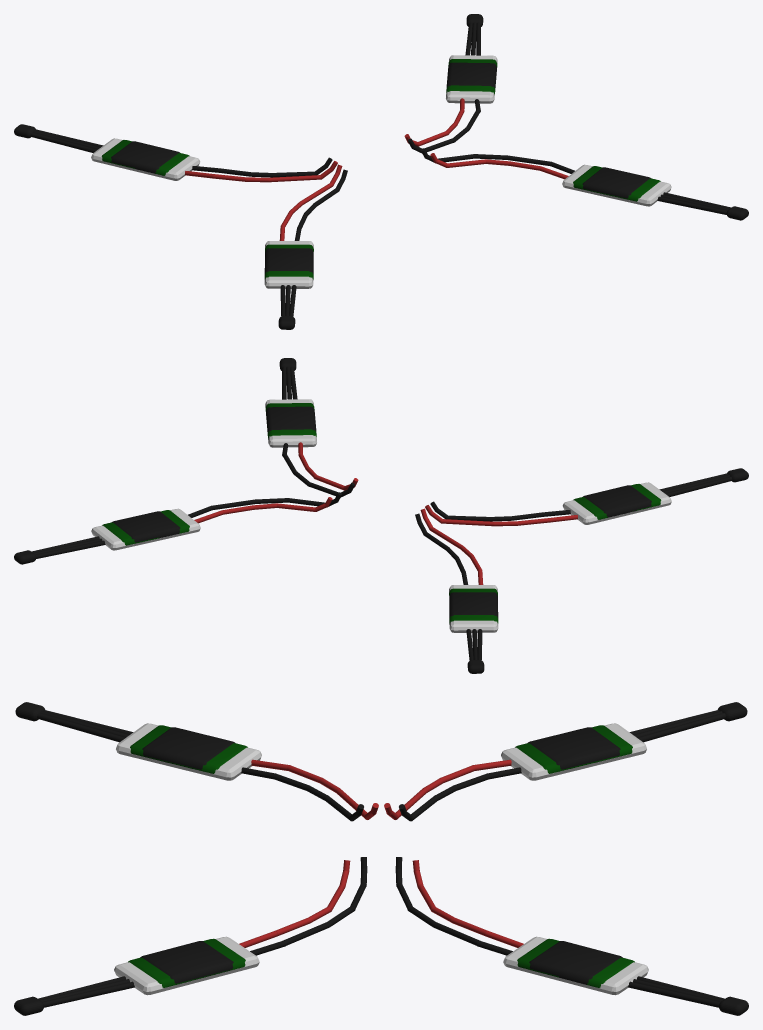
Rendered from controller2.dae.
3 views of the same model, one above another, from view 1: azimuth 30°, elevation 25°; view 2: azimuth 150°, elevation 25°; view 3: azimuth 270°, elevation 25° (orthographic). The views are drawn at different scales.
Visible parts, largest first — view 1: Würfel.2 (×2), Würfel (×2), Würfel.1 (×2), Kabel.1; view 2: Würfel.2 (×2), Würfel (×2), Würfel.1 (×2), Kabel.1; view 3: Würfel.2 (×2), Würfel (×2), Würfel.1 (×2), Kabel.2 (×2), Schrumpfschlauch_Motor (×2), Kabel (×2), Kabel.1 (×2), Kabel.8.
Part boxes in pixels (box(x1,y1,x2,y2)): Würfel.2 (×2): box(111, 62, 651, 273); Würfel (×2): box(91, 55, 671, 288); Würfel.1 (×2): box(101, 59, 660, 279); Kabel.1: box(465, 23, 727, 214); Würfel.2 (×2): box(111, 406, 651, 617); Würfel (×2): box(91, 399, 671, 632); Würfel.1 (×2): box(102, 403, 661, 623); Kabel.1: box(35, 367, 297, 558); Würfel.2 (×2): box(140, 727, 622, 984); Würfel (×2): box(114, 723, 648, 995); Würfel.1 (×2): box(128, 725, 634, 987); Kabel.2 (×2): box(37, 713, 725, 1007); Schrumpfschlauch_Motor (×2): box(14, 702, 748, 1015); Kabel (×2): box(40, 711, 722, 1001); Kabel.1 (×2): box(38, 710, 724, 999); Kabel.8: box(283, 922, 479, 945).
Bounding box in the file's own units: 588 × 29.2 × 595.
